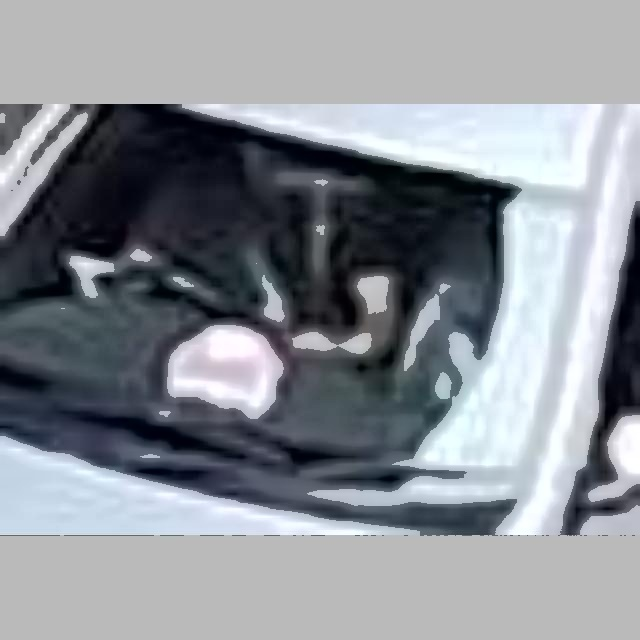pakai: (134, 149, 424, 357)
